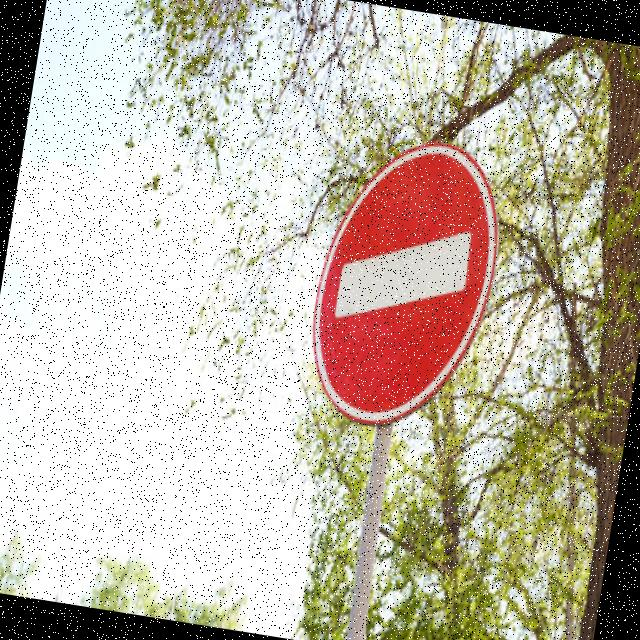do_not_enter: (294, 114, 517, 457)
